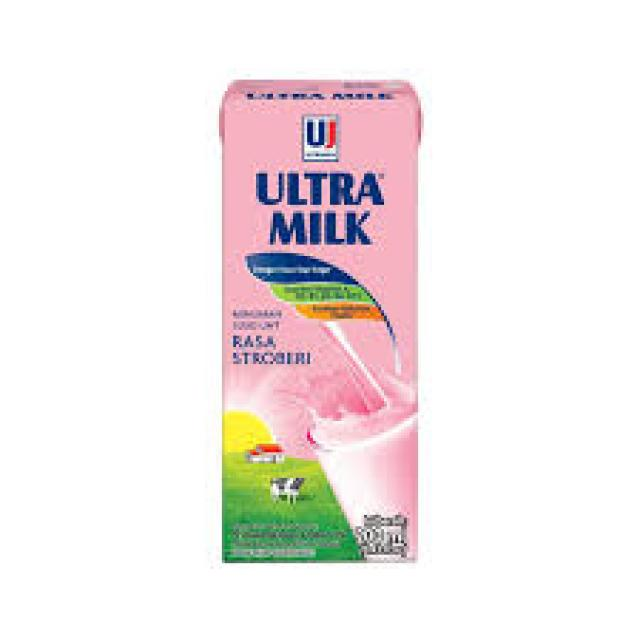susu_kotak: (200, 71, 452, 580)
